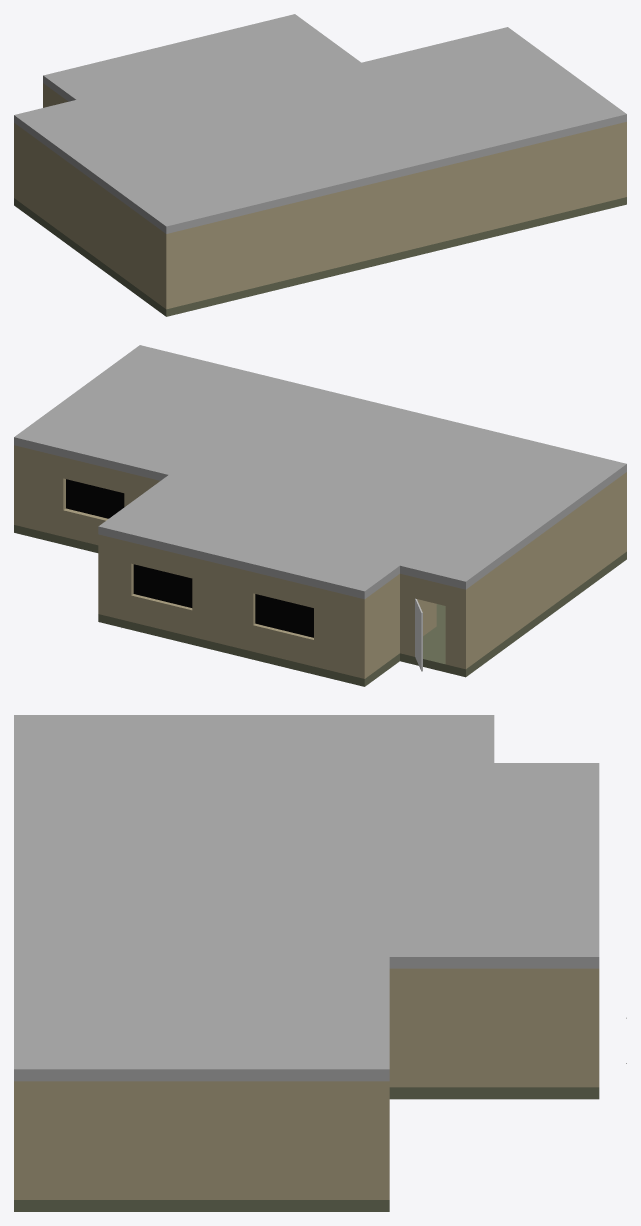
Rendered from house design 3.fbx.
3 renders of one model, top to bottom at view 1: azimuth 30°, elevation 25°; view 2: azimuth 150°, elevation 25°; view 3: azimuth 270°, elevation 25°, orthographic. The views are drawn at different scales.
Parts seen in each view (by area): view 1: walls; view 2: walls, wendos, 2d; view 3: walls.
Boxes of the visible parts, x1,y1,x2,y2 form: walls: (14, 14, 626, 316); walls: (14, 345, 626, 686); wendos: (66, 479, 313, 637); 2d: (121, 598, 422, 671); walls: (14, 715, 599, 1211).
Size of the model in its own units: 19.2 by 14.03 by 3.6.
